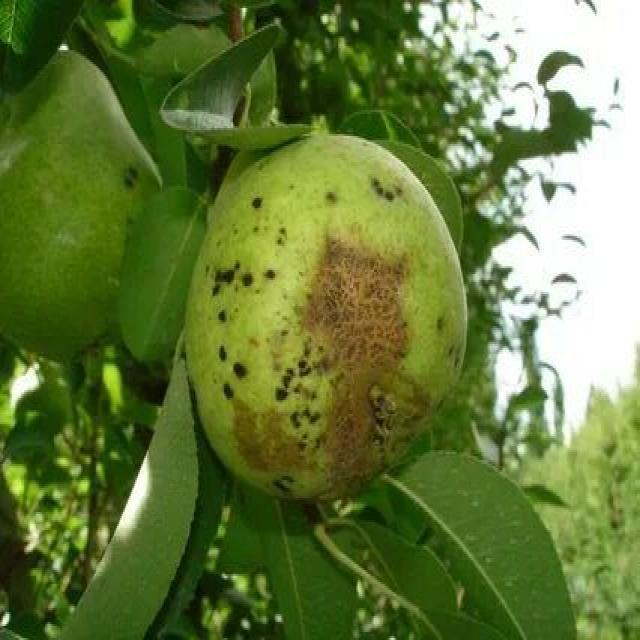Rotten: (193, 148, 465, 492)
